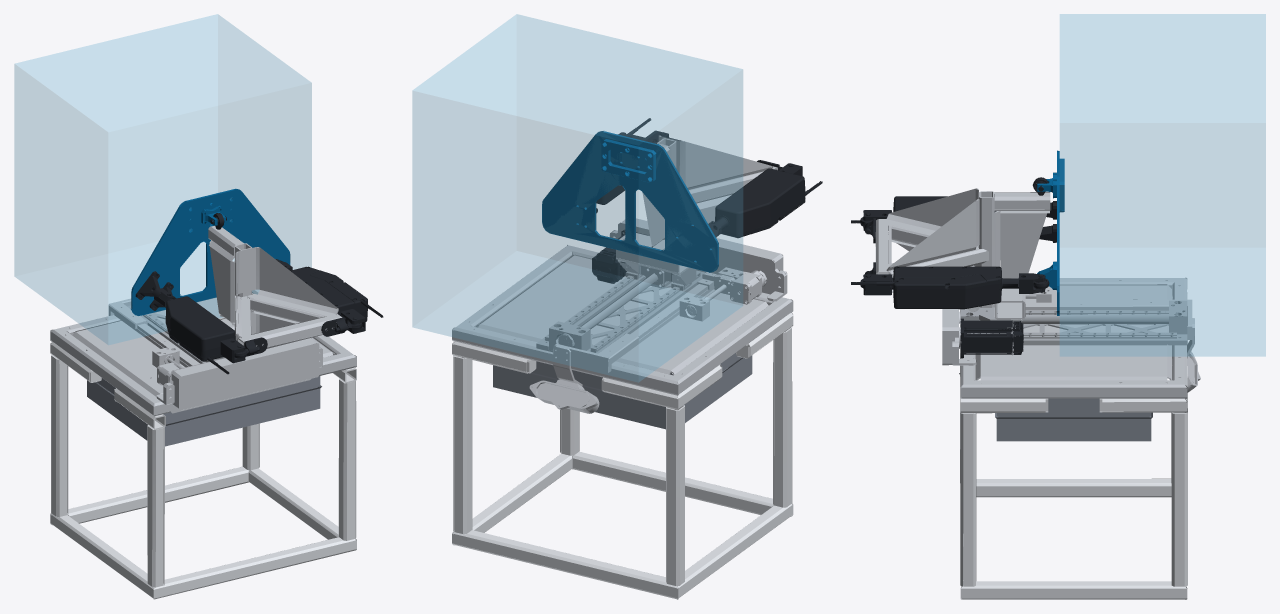
The model's file is spoc.glb.
3 renders of one model, left to right at view 1: azimuth 30°, elevation 25°; view 2: azimuth 150°, elevation 25°; view 3: azimuth 270°, elevation 25°, orthographic. The views are drawn at different scales.
Visible parts, largest first — view 1: 12-sonde, 02-structure, 01-interface-porteur, 08-support-prehenseur, 11-alimentation, 06-verins, 07-rotules, 09-detection-surface; view 2: 12-sonde, 01-interface-porteur, 02-structure, 08-support-prehenseur, 09-detection-surface, 11-alimentation, 06-verins, 04-vis, 05-guidages, 03-moteur, 07-rotules; view 3: 12-sonde, 02-structure, 01-interface-porteur, 06-verins, 11-alimentation, 04-vis, 09-detection-surface, 07-rotules, 03-moteur, 05-guidages, 08-support-prehenseur.
Boxes of the visible parts, <box> form: 12-sonde: <box>14,14,311,344</box>; 02-structure: <box>50,225,356,416</box>; 01-interface-porteur: <box>50,342,356,599</box>; 08-support-prehenseur: <box>131,188,290,315</box>; 11-alimentation: <box>87,376,321,446</box>; 06-verins: <box>164,266,383,374</box>; 07-rotules: <box>135,213,365,363</box>; 09-detection-surface: <box>108,298,200,385</box>; 12-sonde: <box>412,14,742,382</box>; 01-interface-porteur: <box>452,313,793,599</box>; 02-structure: <box>452,135,793,395</box>; 08-support-prehenseur: <box>542,131,718,272</box>; 09-detection-surface: <box>529,267,766,413</box>; 11-alimentation: <box>493,353,752,429</box>; 06-verins: <box>596,118,822,237</box>; 04-vis: <box>536,260,704,353</box>; 05-guidages: <box>544,270,700,352</box>; 03-moteur: <box>592,230,647,283</box>; 07-rotules: <box>596,130,802,237</box>; 12-sonde: <box>1060,14,1265,356</box>; 02-structure: <box>875,188,1187,398</box>; 01-interface-porteur: <box>960,292,1187,599</box>; 06-verins: <box>851,196,1018,309</box>; 11-alimentation: <box>995,398,1152,441</box>; 04-vis: <box>959,300,1187,345</box>; 09-detection-surface: <box>1025,286,1200,392</box>; 07-rotules: <box>860,177,1056,295</box>; 03-moteur: <box>960,318,1023,357</box>; 05-guidages: <box>971,310,1176,338</box>; 08-support-prehenseur: <box>1037,150,1064,315</box>.
Size of the model in its own units: 0.5021 by 1.02 by 0.8046.
